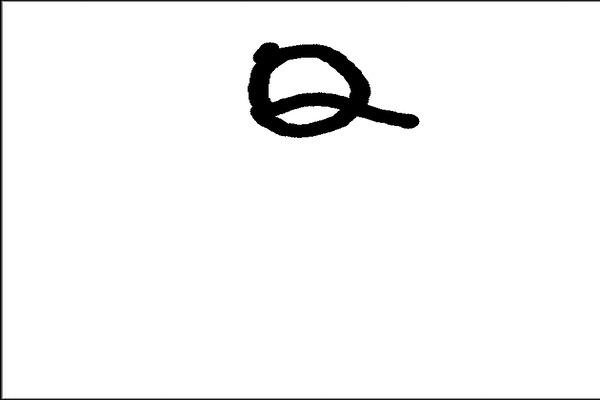Q: (238, 29, 407, 146)
